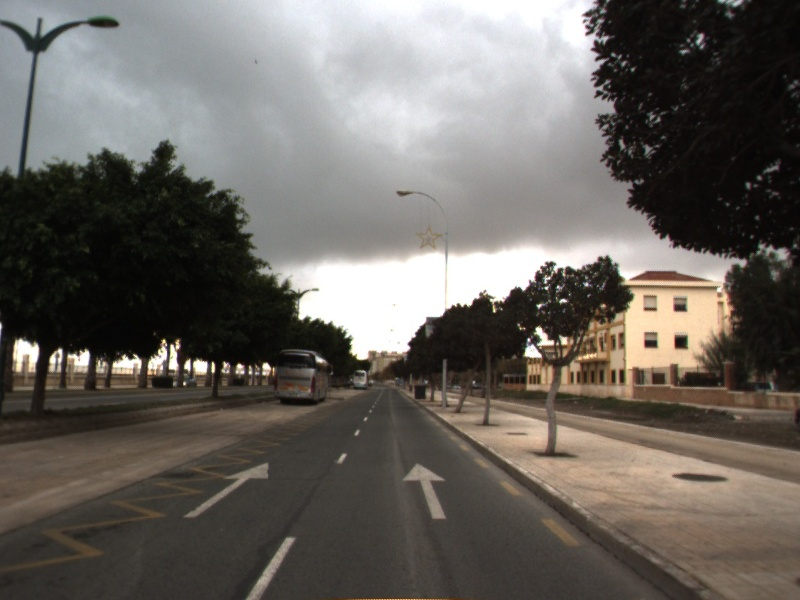STRAIGHT: (182, 460, 270, 520), (400, 461, 449, 521)
